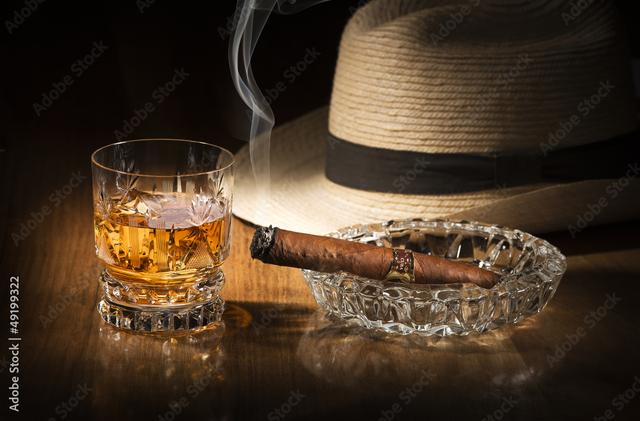Cigar: (248, 224, 503, 290)
